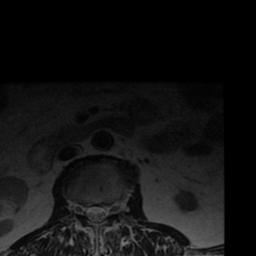CCS_normal: (93, 197, 99, 229)
LFS_normal: (107, 198, 116, 220)
LLS_normal: (100, 200, 106, 225)
RFS_normal: (78, 198, 86, 220)
RLS_normal: (86, 201, 93, 226)
